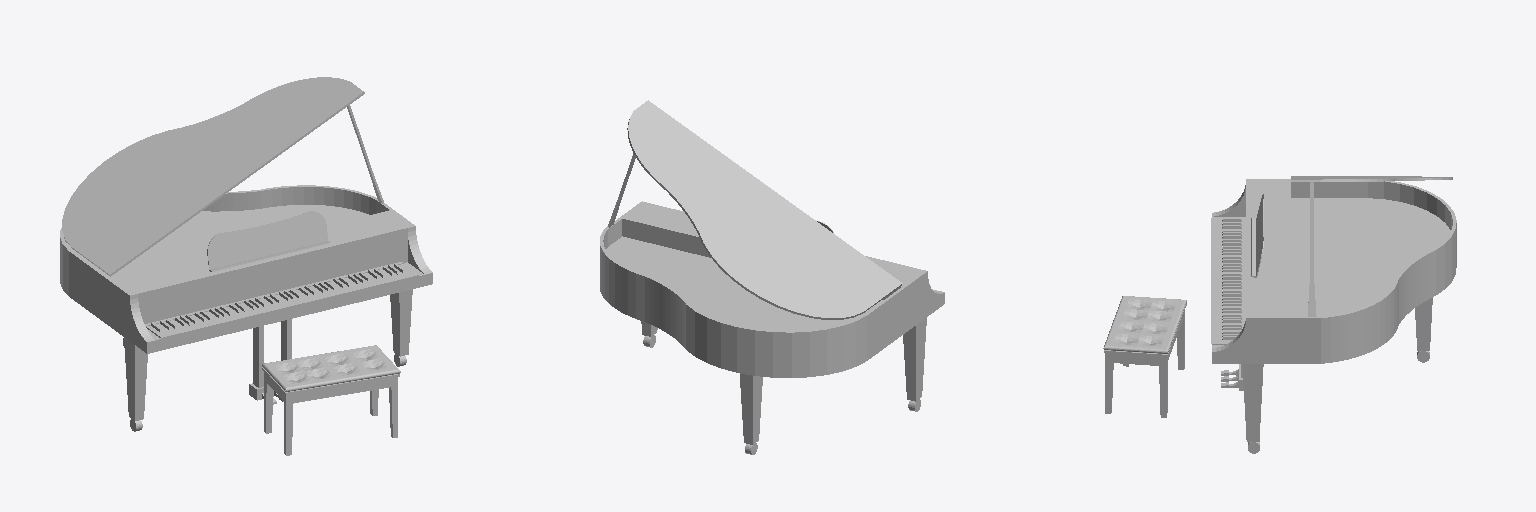
The model's file is piano.obj.
3 renders of one model, left to right at view 1: azimuth 30°, elevation 25°; view 2: azimuth 150°, elevation 25°; view 3: azimuth 270°, elevation 25°, orthographic.
Parts seen in each view (by area): view 1: Baby_grand_piano_001, Group_096; view 2: Baby_grand_piano_001; view 3: Baby_grand_piano_001, Group_096.
Part boxes in pixels (bbox=[...]): Baby_grand_piano_001: bbox=[60, 77, 432, 431]; Group_096: bbox=[262, 345, 400, 455]; Baby_grand_piano_001: bbox=[600, 100, 944, 454]; Baby_grand_piano_001: bbox=[1212, 176, 1456, 453]; Group_096: bbox=[1103, 296, 1186, 417].
Bounding box in the file's own units: 1466 × 1295 × 1569.